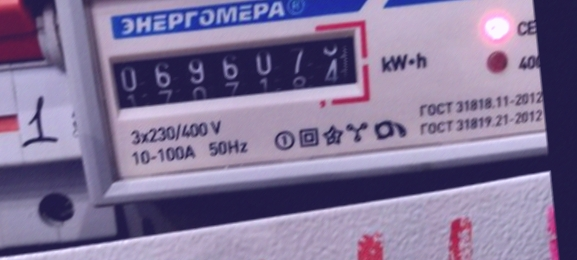0: (250, 45, 271, 76), (116, 62, 136, 92)
4: (318, 53, 338, 83)
6: (217, 49, 237, 79), (150, 58, 169, 87)
7: (284, 42, 306, 75)
9: (182, 54, 203, 84)
screen: (92, 14, 376, 126)
